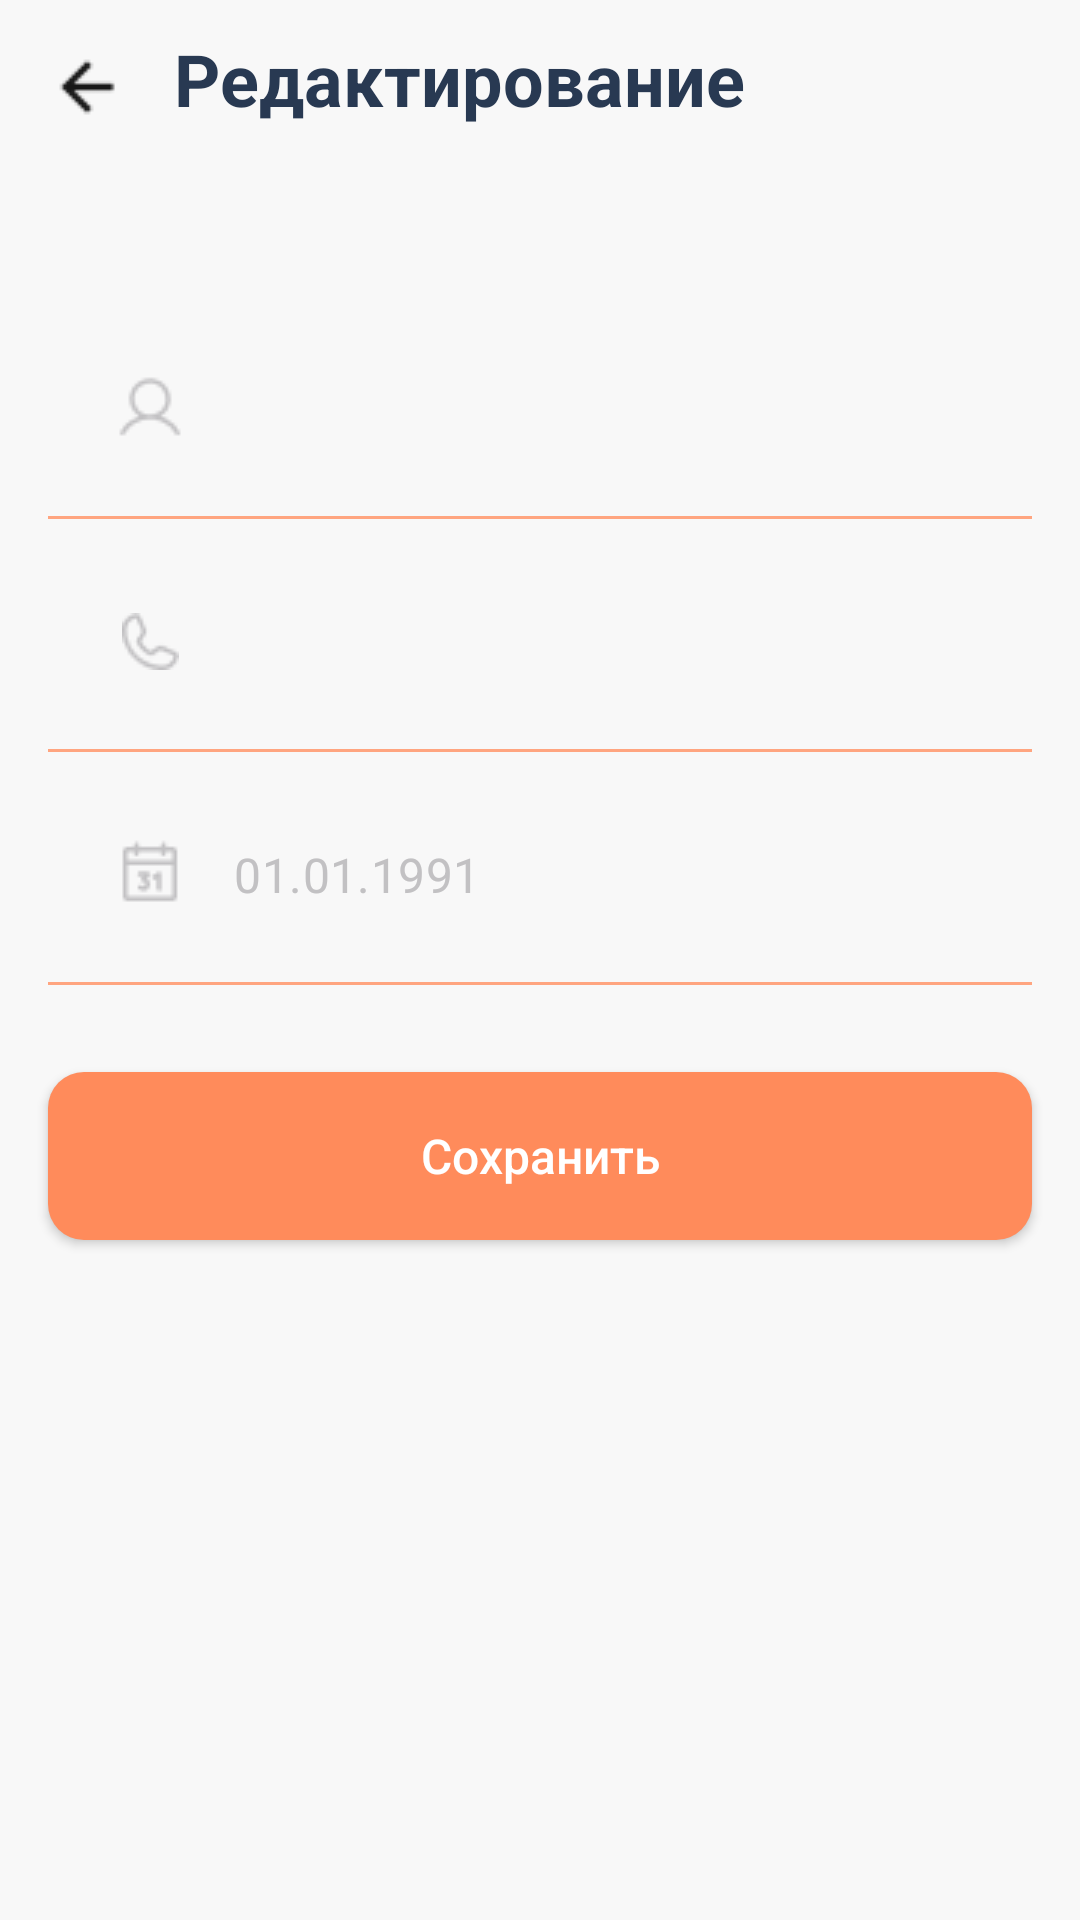

Named icons in this screenshot (1080×1920) and their centers, point (x, y):
back: point (87, 87)
